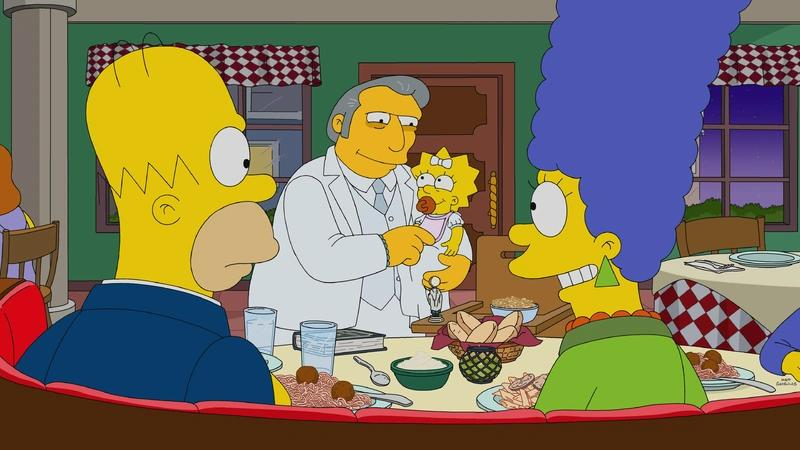Homer: (66, 46, 307, 350)
Maggie: (408, 145, 494, 294)
Marge: (515, 0, 693, 354)
